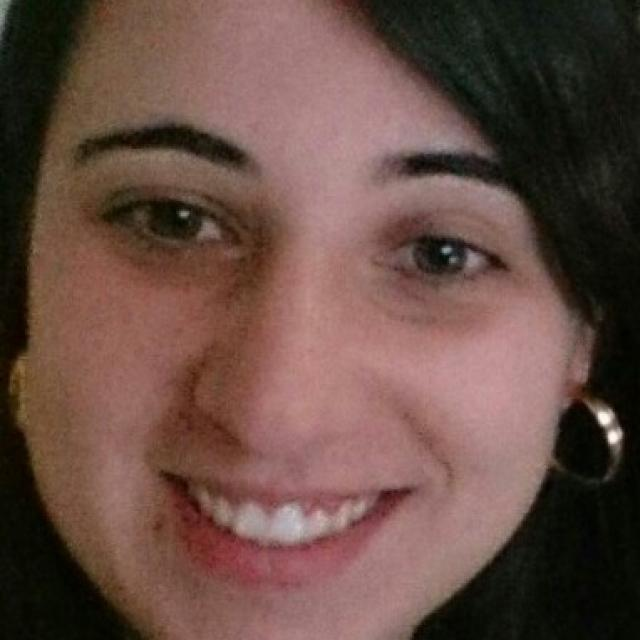Normal: (20, 0, 573, 638)
